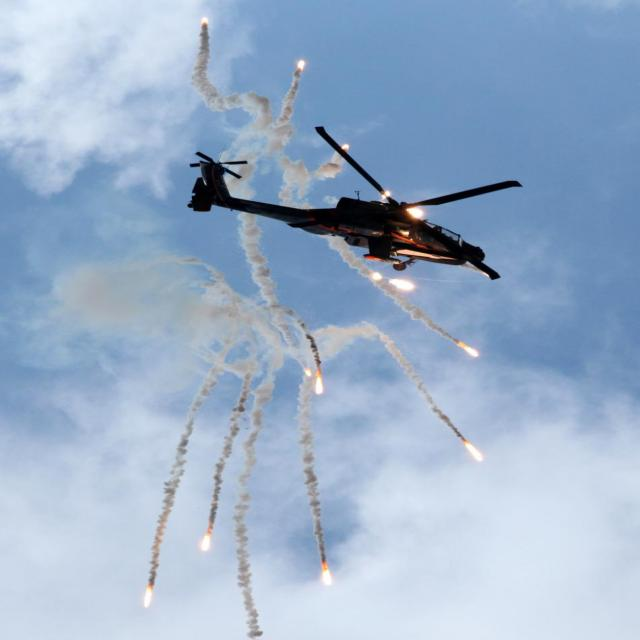MIL_HELO: (168, 114, 572, 294)
